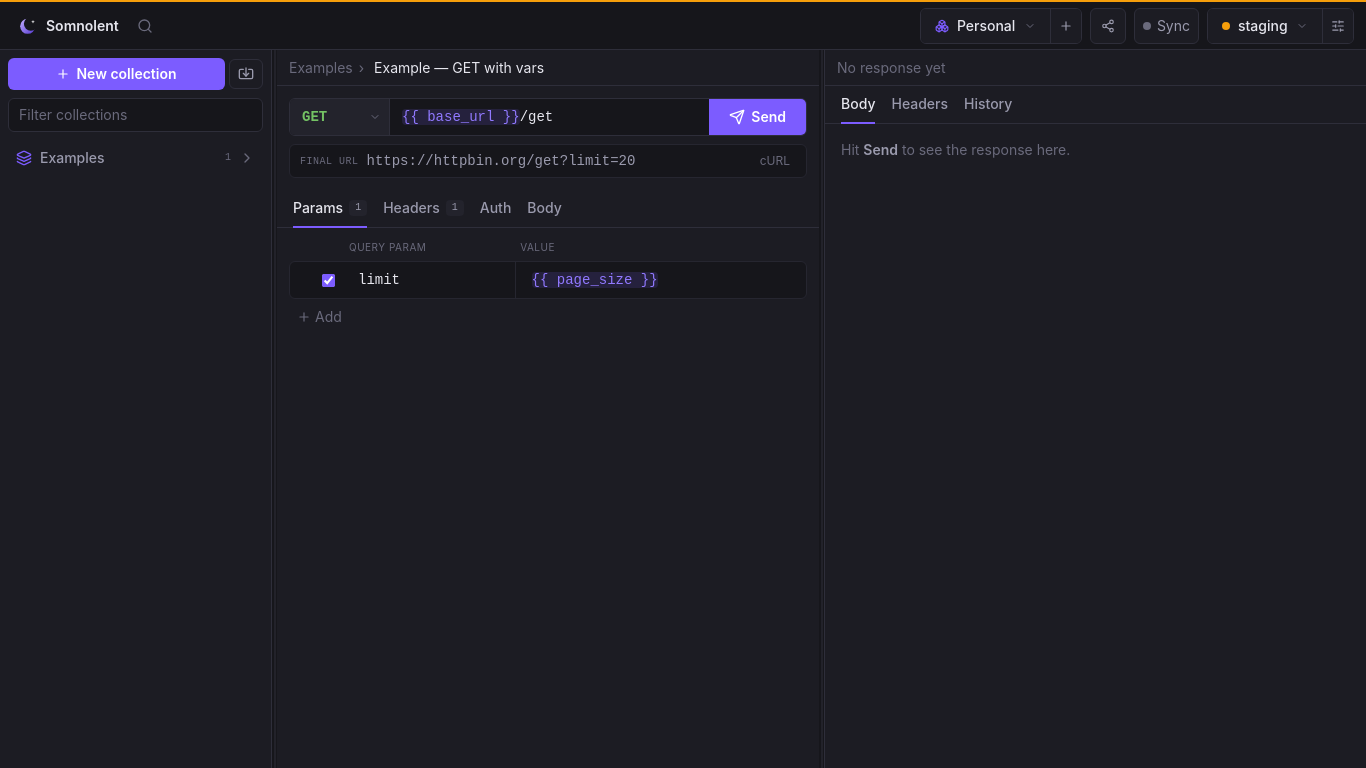
header › search is icon only and opens the palette on click
What coordinates should you click on to do the following:
click the button named "Search request"
I would click on:
 (145, 26)
Its box is [129,10,161,42].
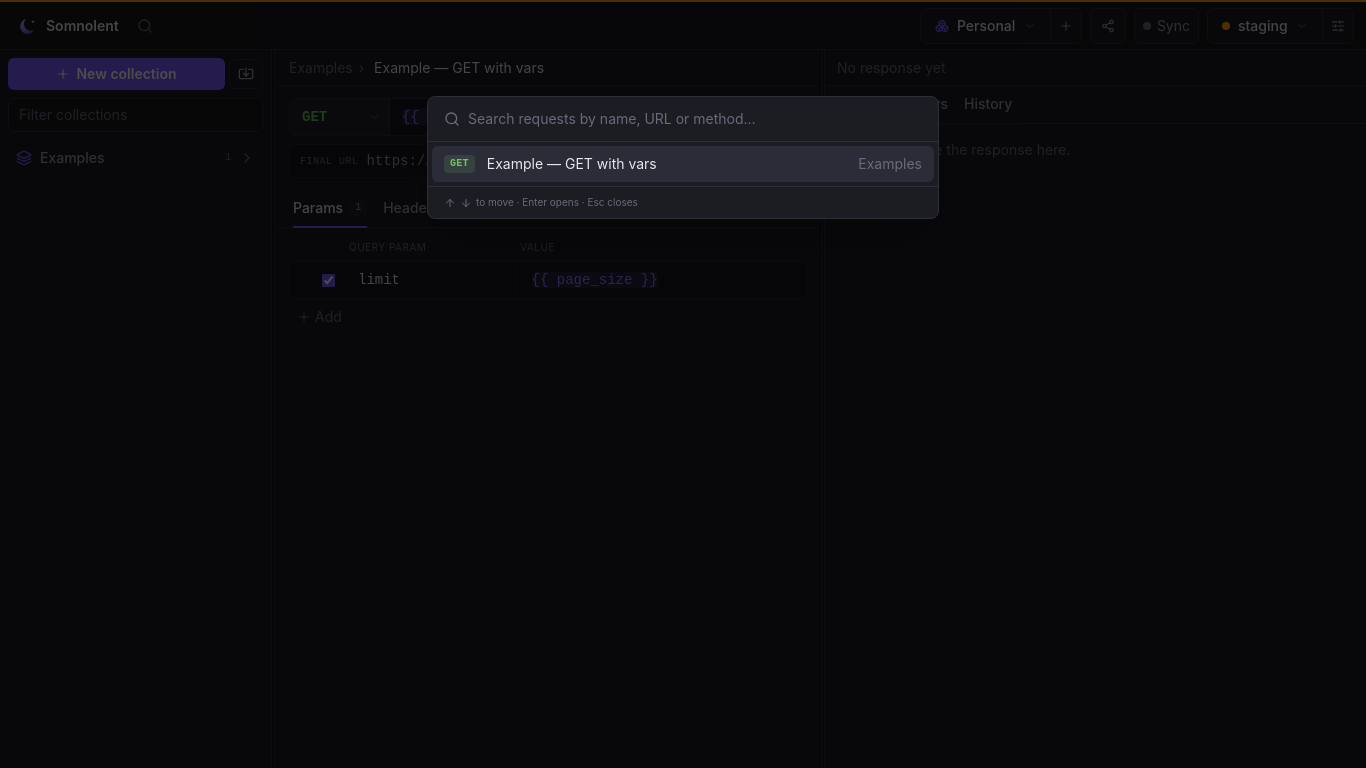
Check: the field with placeholder "Search requests by name, URL or method…" is shown, box [468,97,922,141]
